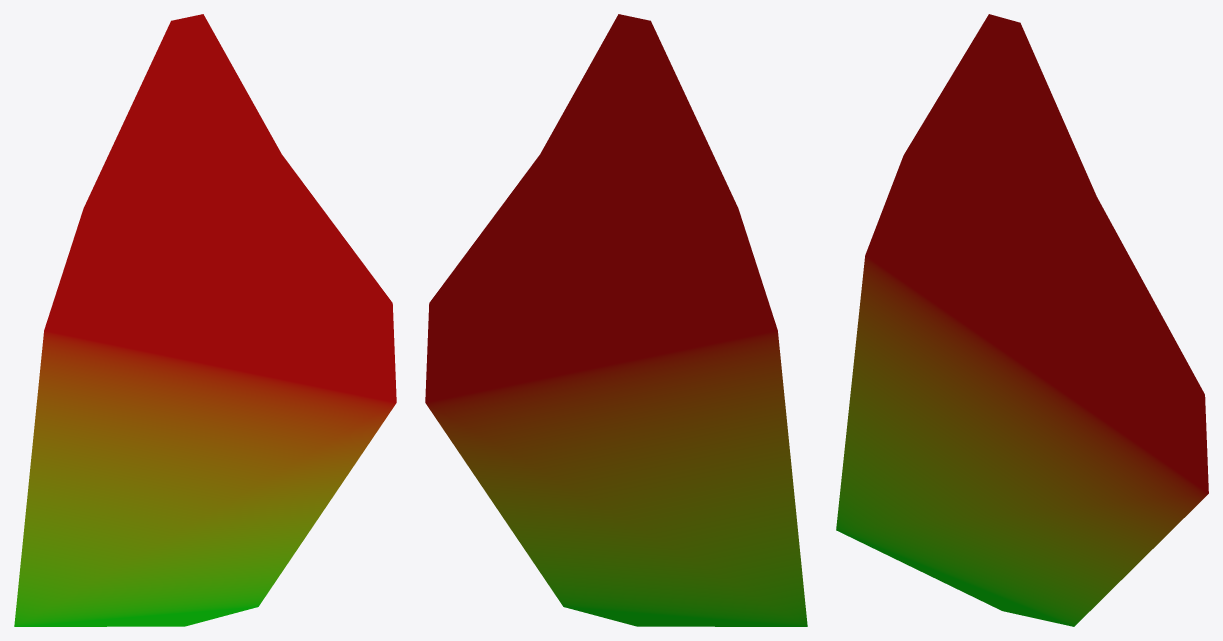
Rendered from Myricaria_LOD3_Var1_tfbldaor.fbx.
The picture shows the model from 3 angles, left to right: view 1: azimuth 30°, elevation 25°; view 2: azimuth 150°, elevation 25°; view 3: azimuth 330°, elevation 25°; orthographic projection. The views are drawn at different scales.
Visible parts, largest first — view 1: _5449_Var1_LOD3; view 2: _5449_Var1_LOD3; view 3: _5449_Var1_LOD3.
Boxes of the visible parts, box(x1,y1,x2,y2) form: _5449_Var1_LOD3: box(14, 14, 396, 626); _5449_Var1_LOD3: box(425, 14, 807, 626); _5449_Var1_LOD3: box(836, 14, 1208, 626).
Size of the model in its own units: 66.78 by 102 by 1.57e-05.
